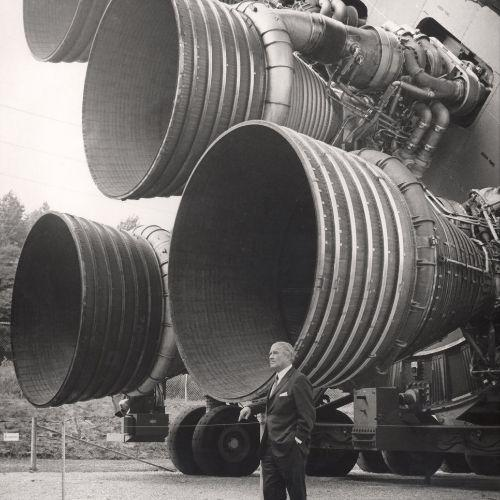thruster: (165, 118, 484, 410), (79, 0, 345, 203), (7, 211, 175, 411), (21, 0, 113, 65)
